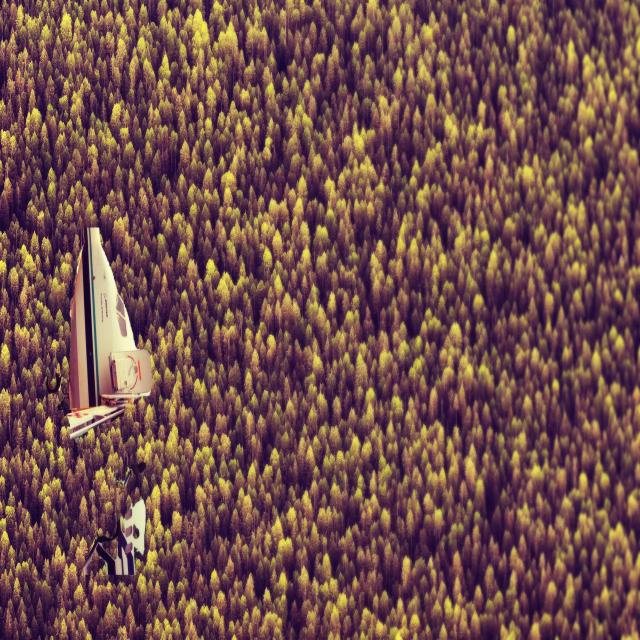airplane: (65, 225, 152, 580)
